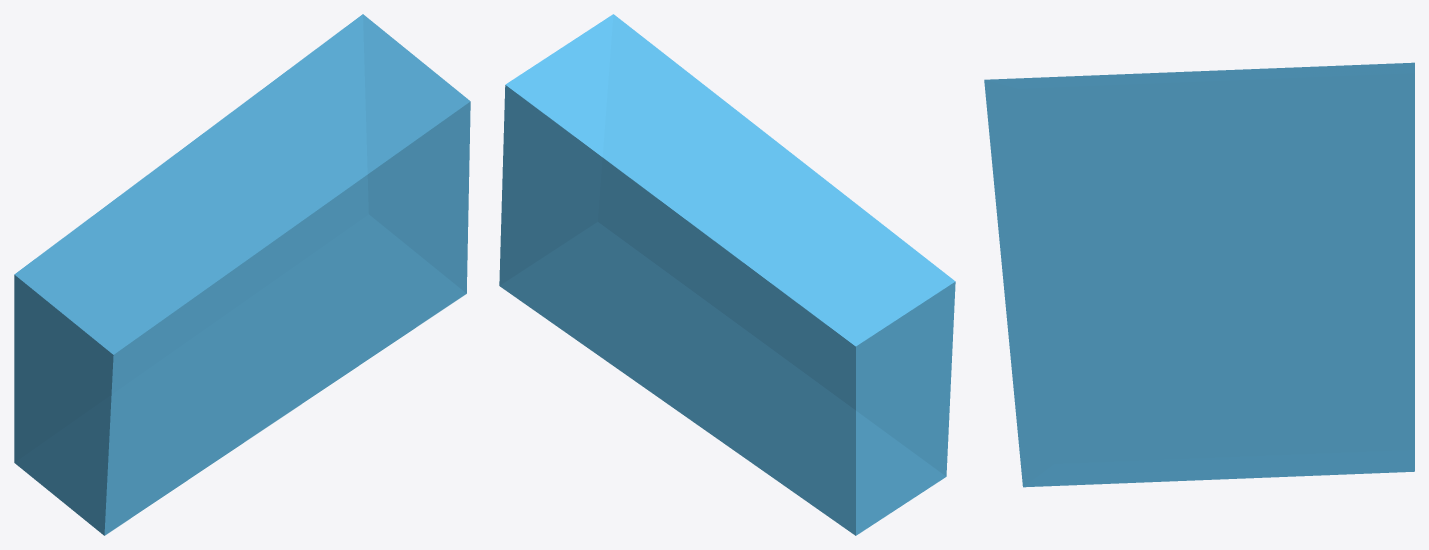
File: Event_420094457_HErechit_29.fbx
3 renders of one model, left to right at view 1: azimuth 30°, elevation 25°; view 2: azimuth 150°, elevation 25°; view 3: azimuth 270°, elevation 25°, orthographic. The views are drawn at different scales.
Parts seen in each view (by area): view 1: Model; view 2: Model; view 3: Model.
Part boxes in pixels (x1=…): Model: x1=14, y1=14, x2=470, y2=535; Model: x1=499, y1=14, x2=955, y2=535; Model: x1=984, y1=62, x2=1414, y2=487.
Bounding box in the file's own units: 0.8602 × 0.8599 × 0.4525.
